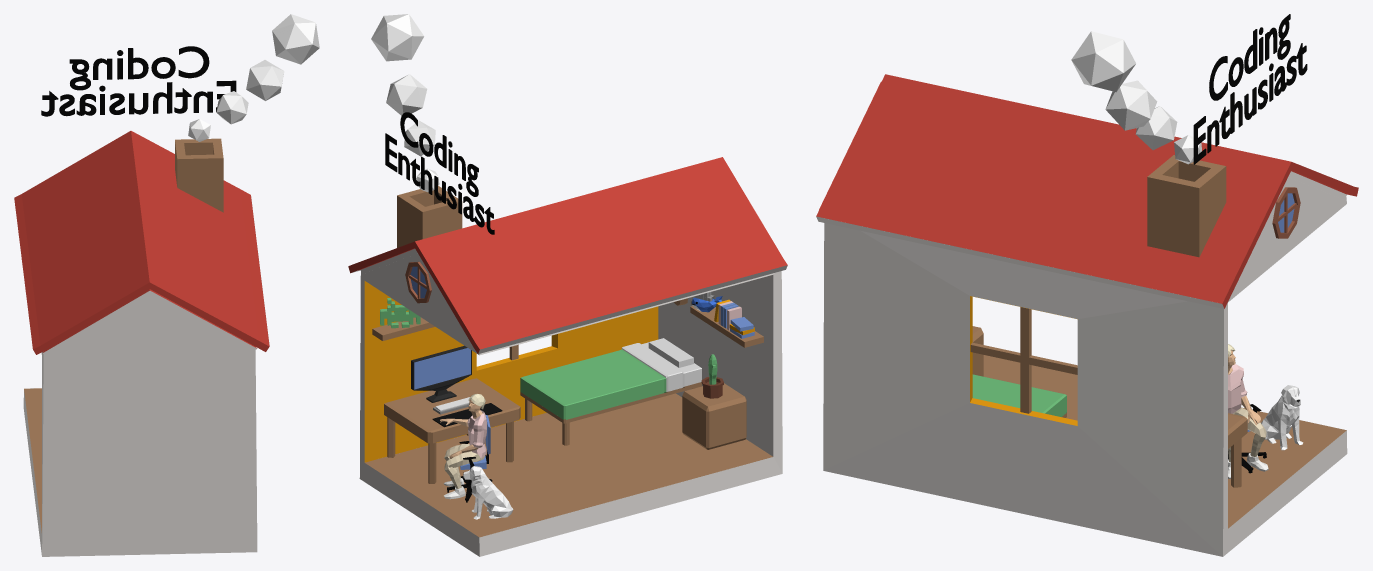
Rendered from home.glb.
3 views of the same model, side by side, from view 1: azimuth 30°, elevation 25°; view 2: azimuth 150°, elevation 25°; view 3: azimuth 270°, elevation 25° (orthographic). The views are drawn at different scales.
Parts seen in each view (by area): view 1: Cube.021, Text.008, Cube.008, Icosphere.036, Icosphere.035, Icosphere.034, Icosphere.033; view 2: Cube.021, Cube.022, Cube.023, Cube.028, Text.008, Cube.008, Cube.030, male.004_Circle.001, Icosphere.036, Beto-Lowpoly-Flowalistik, Icosphere.035, Cylinder.018 (+7 smaller); view 3: Cube.021, Cube.008, Text.008, Icosphere.036, Cube.024, Cube.022, male.004_Circle.001, Icosphere.035, Beto-Lowpoly-Flowalistik, Icosphere.034, Cylinder.018, Cube.023.
Boxes of the visible parts, x1,y1,x2,y2 form: Cube.021: [14, 131, 269, 556]; Text.008: [41, 46, 236, 116]; Cube.008: [175, 138, 223, 212]; Icosphere.036: [272, 14, 319, 64]; Icosphere.035: [246, 60, 284, 100]; Icosphere.034: [216, 91, 248, 124]; Icosphere.033: [188, 119, 210, 141]; Cube.021: [348, 157, 787, 556]; Cube.022: [520, 342, 701, 445]; Cube.023: [384, 378, 520, 483]; Cube.028: [682, 383, 746, 449]; Text.008: [385, 112, 494, 234]; Cube.008: [397, 185, 462, 247]; Cube.030: [411, 345, 471, 402]; male.004_Circle.001: [440, 393, 486, 499]; Icosphere.036: [371, 14, 424, 61]; Beto-Lowpoly-Flowalistik: [463, 466, 513, 519]; Icosphere.035: [386, 74, 427, 115]; Cylinder.018: [405, 261, 431, 303]; Cube.021: [816, 74, 1358, 556]; Cube.008: [1147, 155, 1226, 257]; Text.008: [1193, 14, 1307, 164]; Icosphere.036: [1071, 31, 1135, 92]; Cube.024: [970, 307, 1077, 413]; Cube.022: [972, 374, 1066, 417]; male.004_Circle.001: [1228, 344, 1268, 478]; Icosphere.035: [1105, 80, 1157, 130]; Beto-Lowpoly-Flowalistik: [1261, 385, 1303, 450]; Icosphere.034: [1135, 106, 1177, 150]; Cylinder.018: [1272, 187, 1300, 238]; Cube.023: [1228, 413, 1247, 487].
Bounding box in the file's own units: 4.95 × 5.76 × 5.37.
